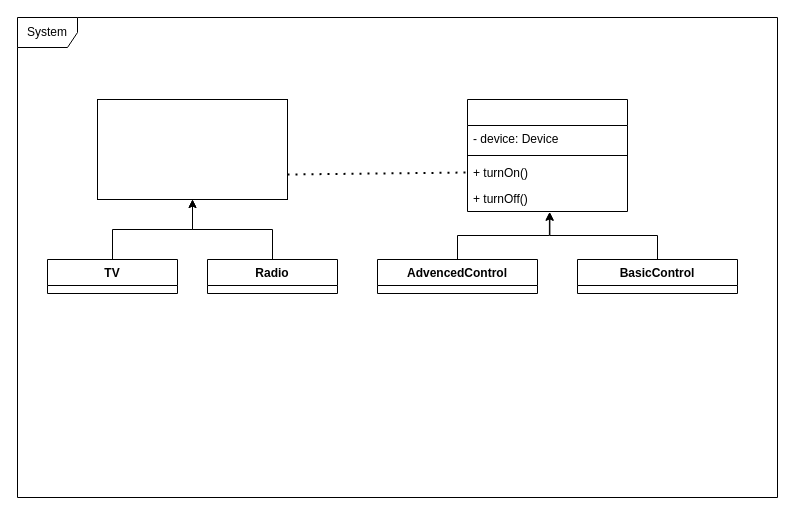
This 795x515 diagram has some shape labels left out. Each missing label, with the box of its shape:
<<Interface>> DeviceInterface + turnOn() + turnOff() + mute(): (96, 98, 288, 200)
RemoteControl: (466, 98, 628, 212)
